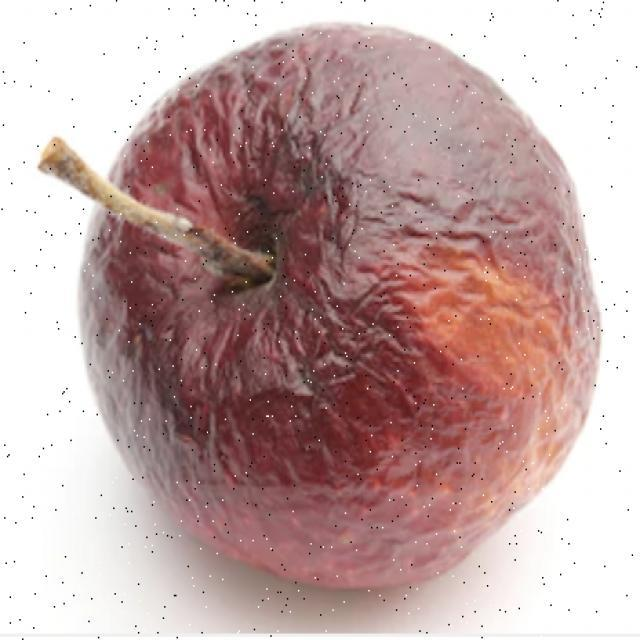Rotten: (78, 40, 587, 603)
